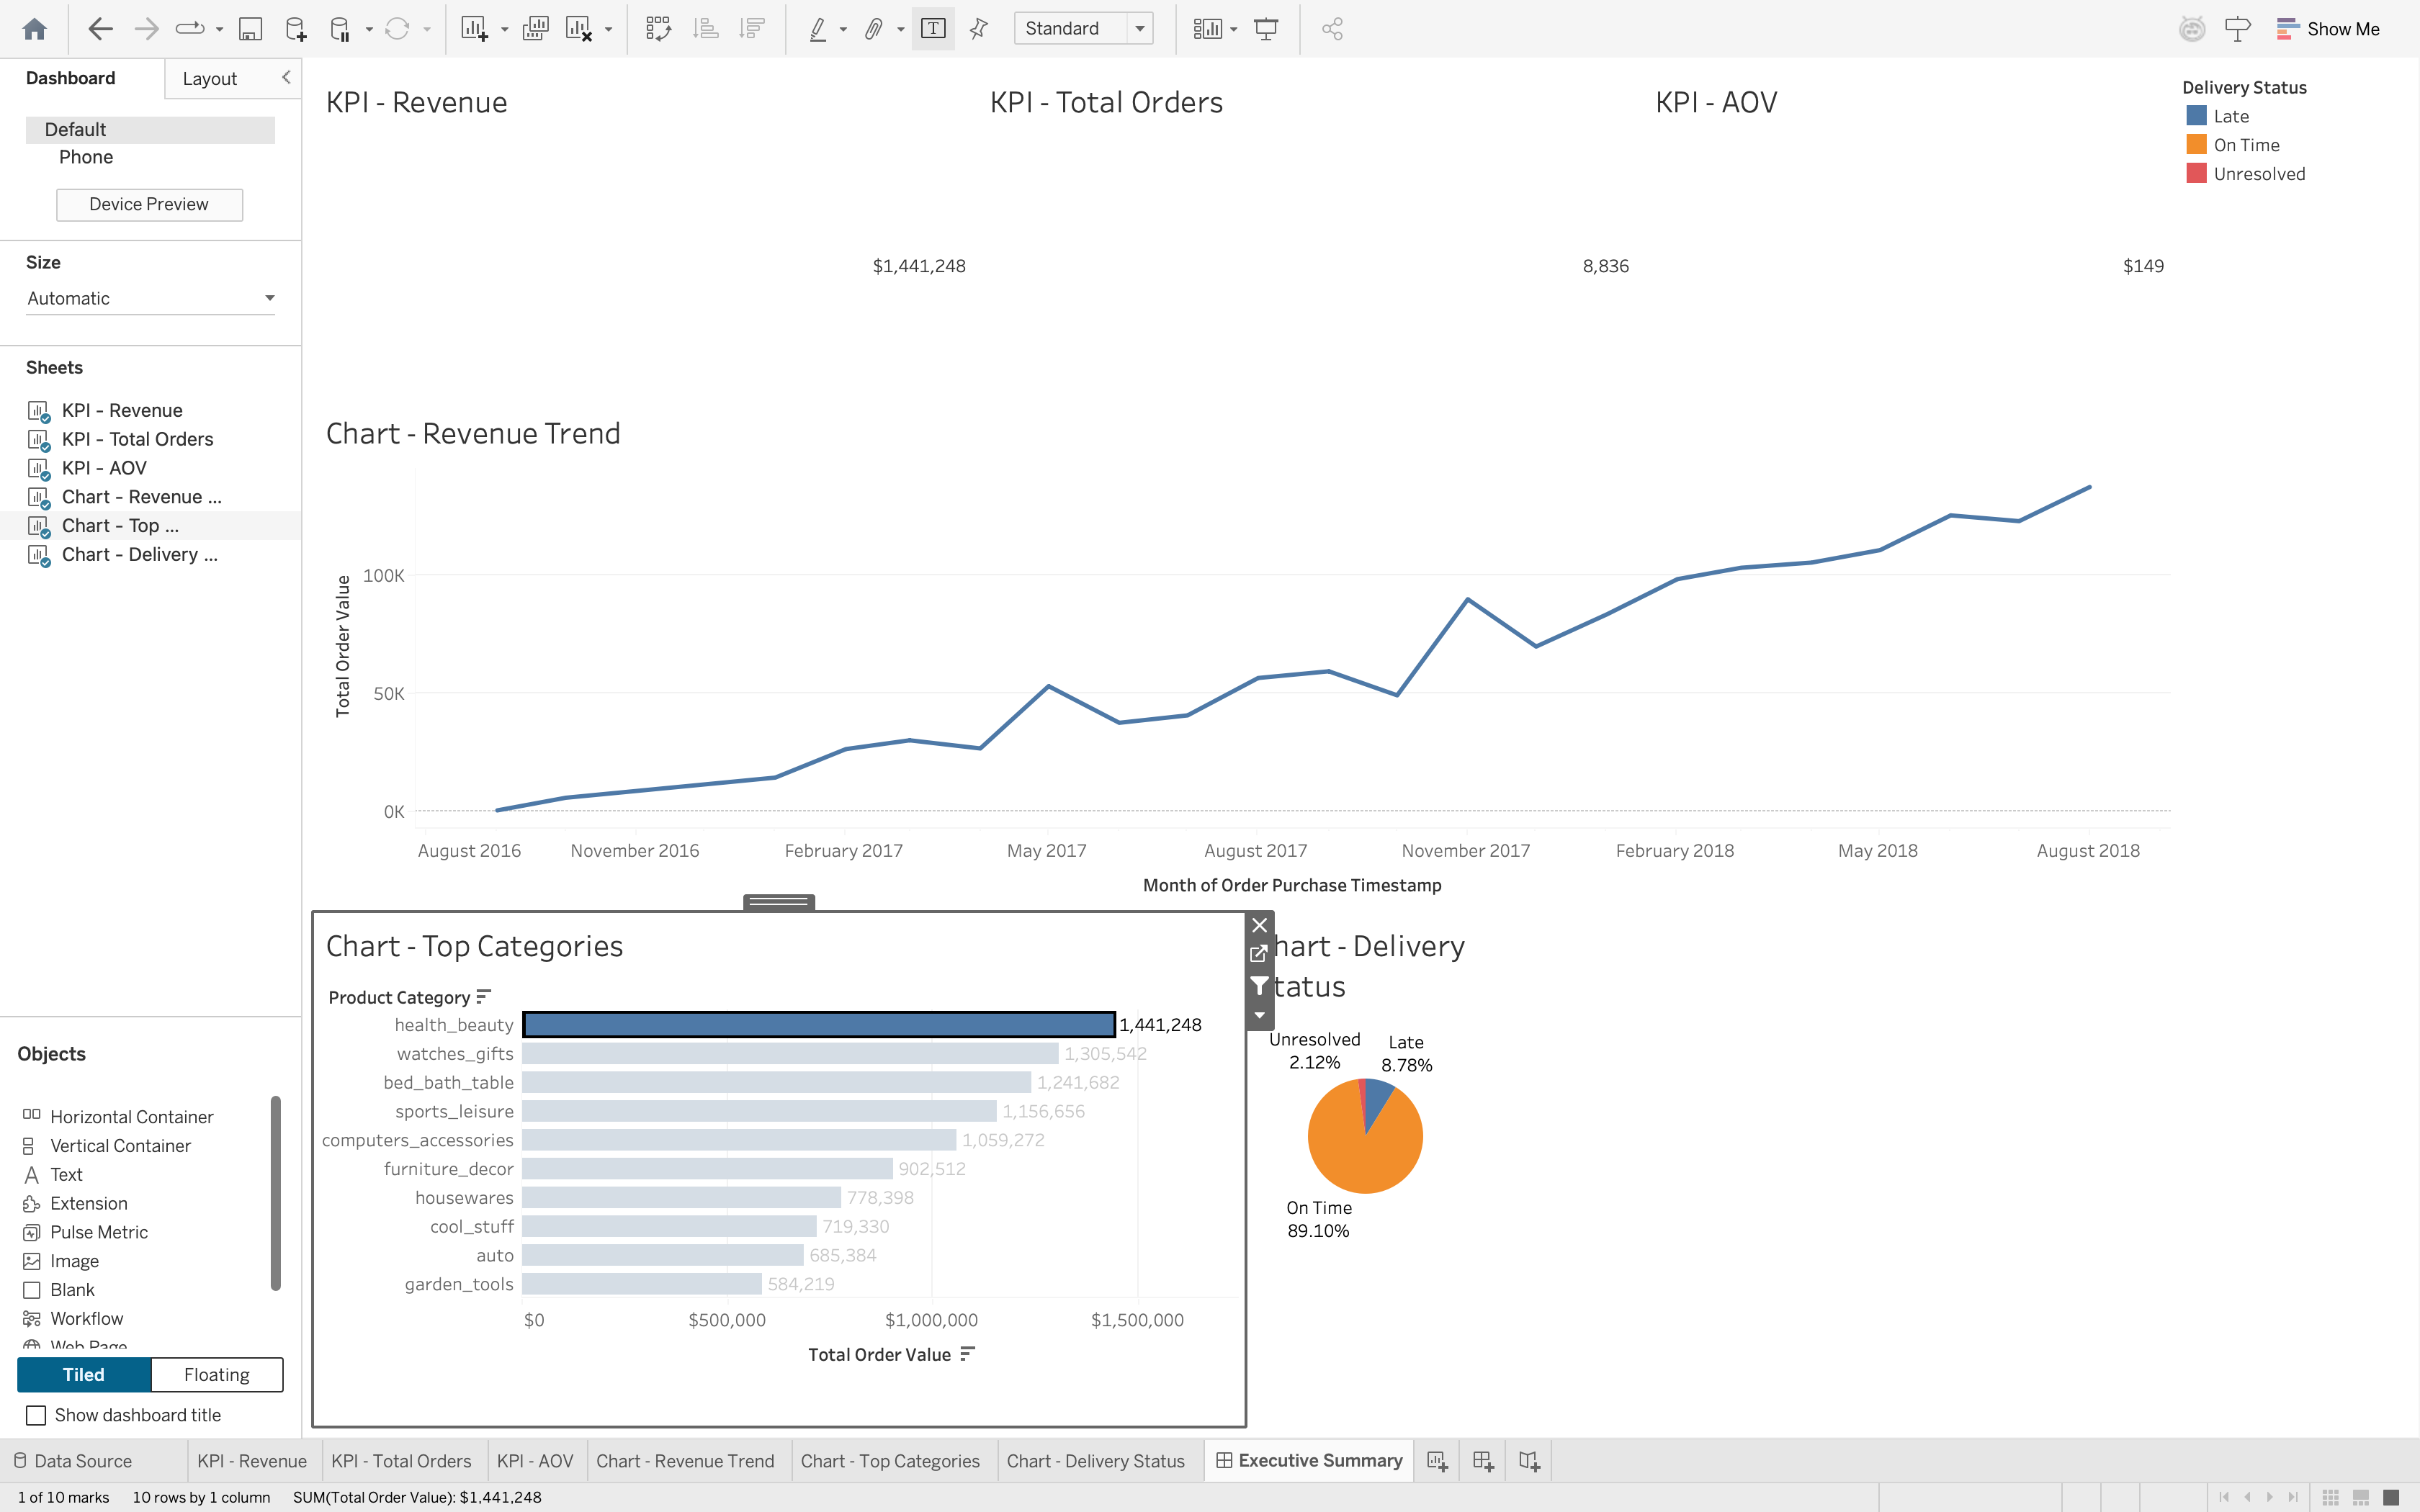

This screenshot's page, from the dashboard's own definition file:
{"tool":"tableau","page":{"name":"Executive Summary","canvas":[1000,1000],"units":"permille","ordinal":0},"visuals":[{"type":"worksheet","title":"KPI - Revenue","mark":"Automatic","box":[5.5,9.9,314.2,239.2]},{"type":"worksheet","title":"KPI - Total Orders","mark":"Automatic","box":[319.6,9.9,314.2,239.2]},{"type":"worksheet","title":"KPI - AOV","mark":"Automatic","box":[633.8,9.9,251.9,239.2]},{"type":"legend","title":"Chart - Delivery Status","param":"[federated.0co8ywl1wk4ffr1dtzu310sh8kh6].[none:delivery_status:nk]","box":[885.6,9.9,108.9,106.6]},{"type":"worksheet","title":"Chart - Revenue Trend","mark":"Automatic","rows":["total_order_value"],"cols":["order_purchase_timestamp"],"box":[5.5,249.1,880.2,370.5]},{"type":"worksheet","title":"Chart - Top Categories","mark":"Automatic","rows":["product_category"],"cols":["total_order_value"],"box":[5.5,619.6,440.1,370.5]},{"type":"worksheet","title":"Chart - Delivery Status","mark":"Pie","box":[445.5,619.6,440.1,370.5]}]}

Visuals, with their boxes on the dashboard's canvas, which has no fixed pixel size, in thousandths of its width and height (x1, y1, x2, y2). These are canvas units, not pixel positions in the 2420x1512 screenshot, which may show the page scaled, cropped or inside an application window:
"KPI - Revenue" worksheet: detection(6, 10, 320, 249)
"KPI - Total Orders" worksheet: detection(320, 10, 634, 249)
"KPI - AOV" worksheet: detection(634, 10, 886, 249)
"Chart - Delivery Status" legend: detection(886, 10, 994, 116)
"Chart - Revenue Trend" worksheet: detection(6, 249, 886, 620)
"Chart - Top Categories" worksheet: detection(6, 620, 446, 990)
"Chart - Delivery Status" worksheet (Pie marks): detection(446, 620, 886, 990)
